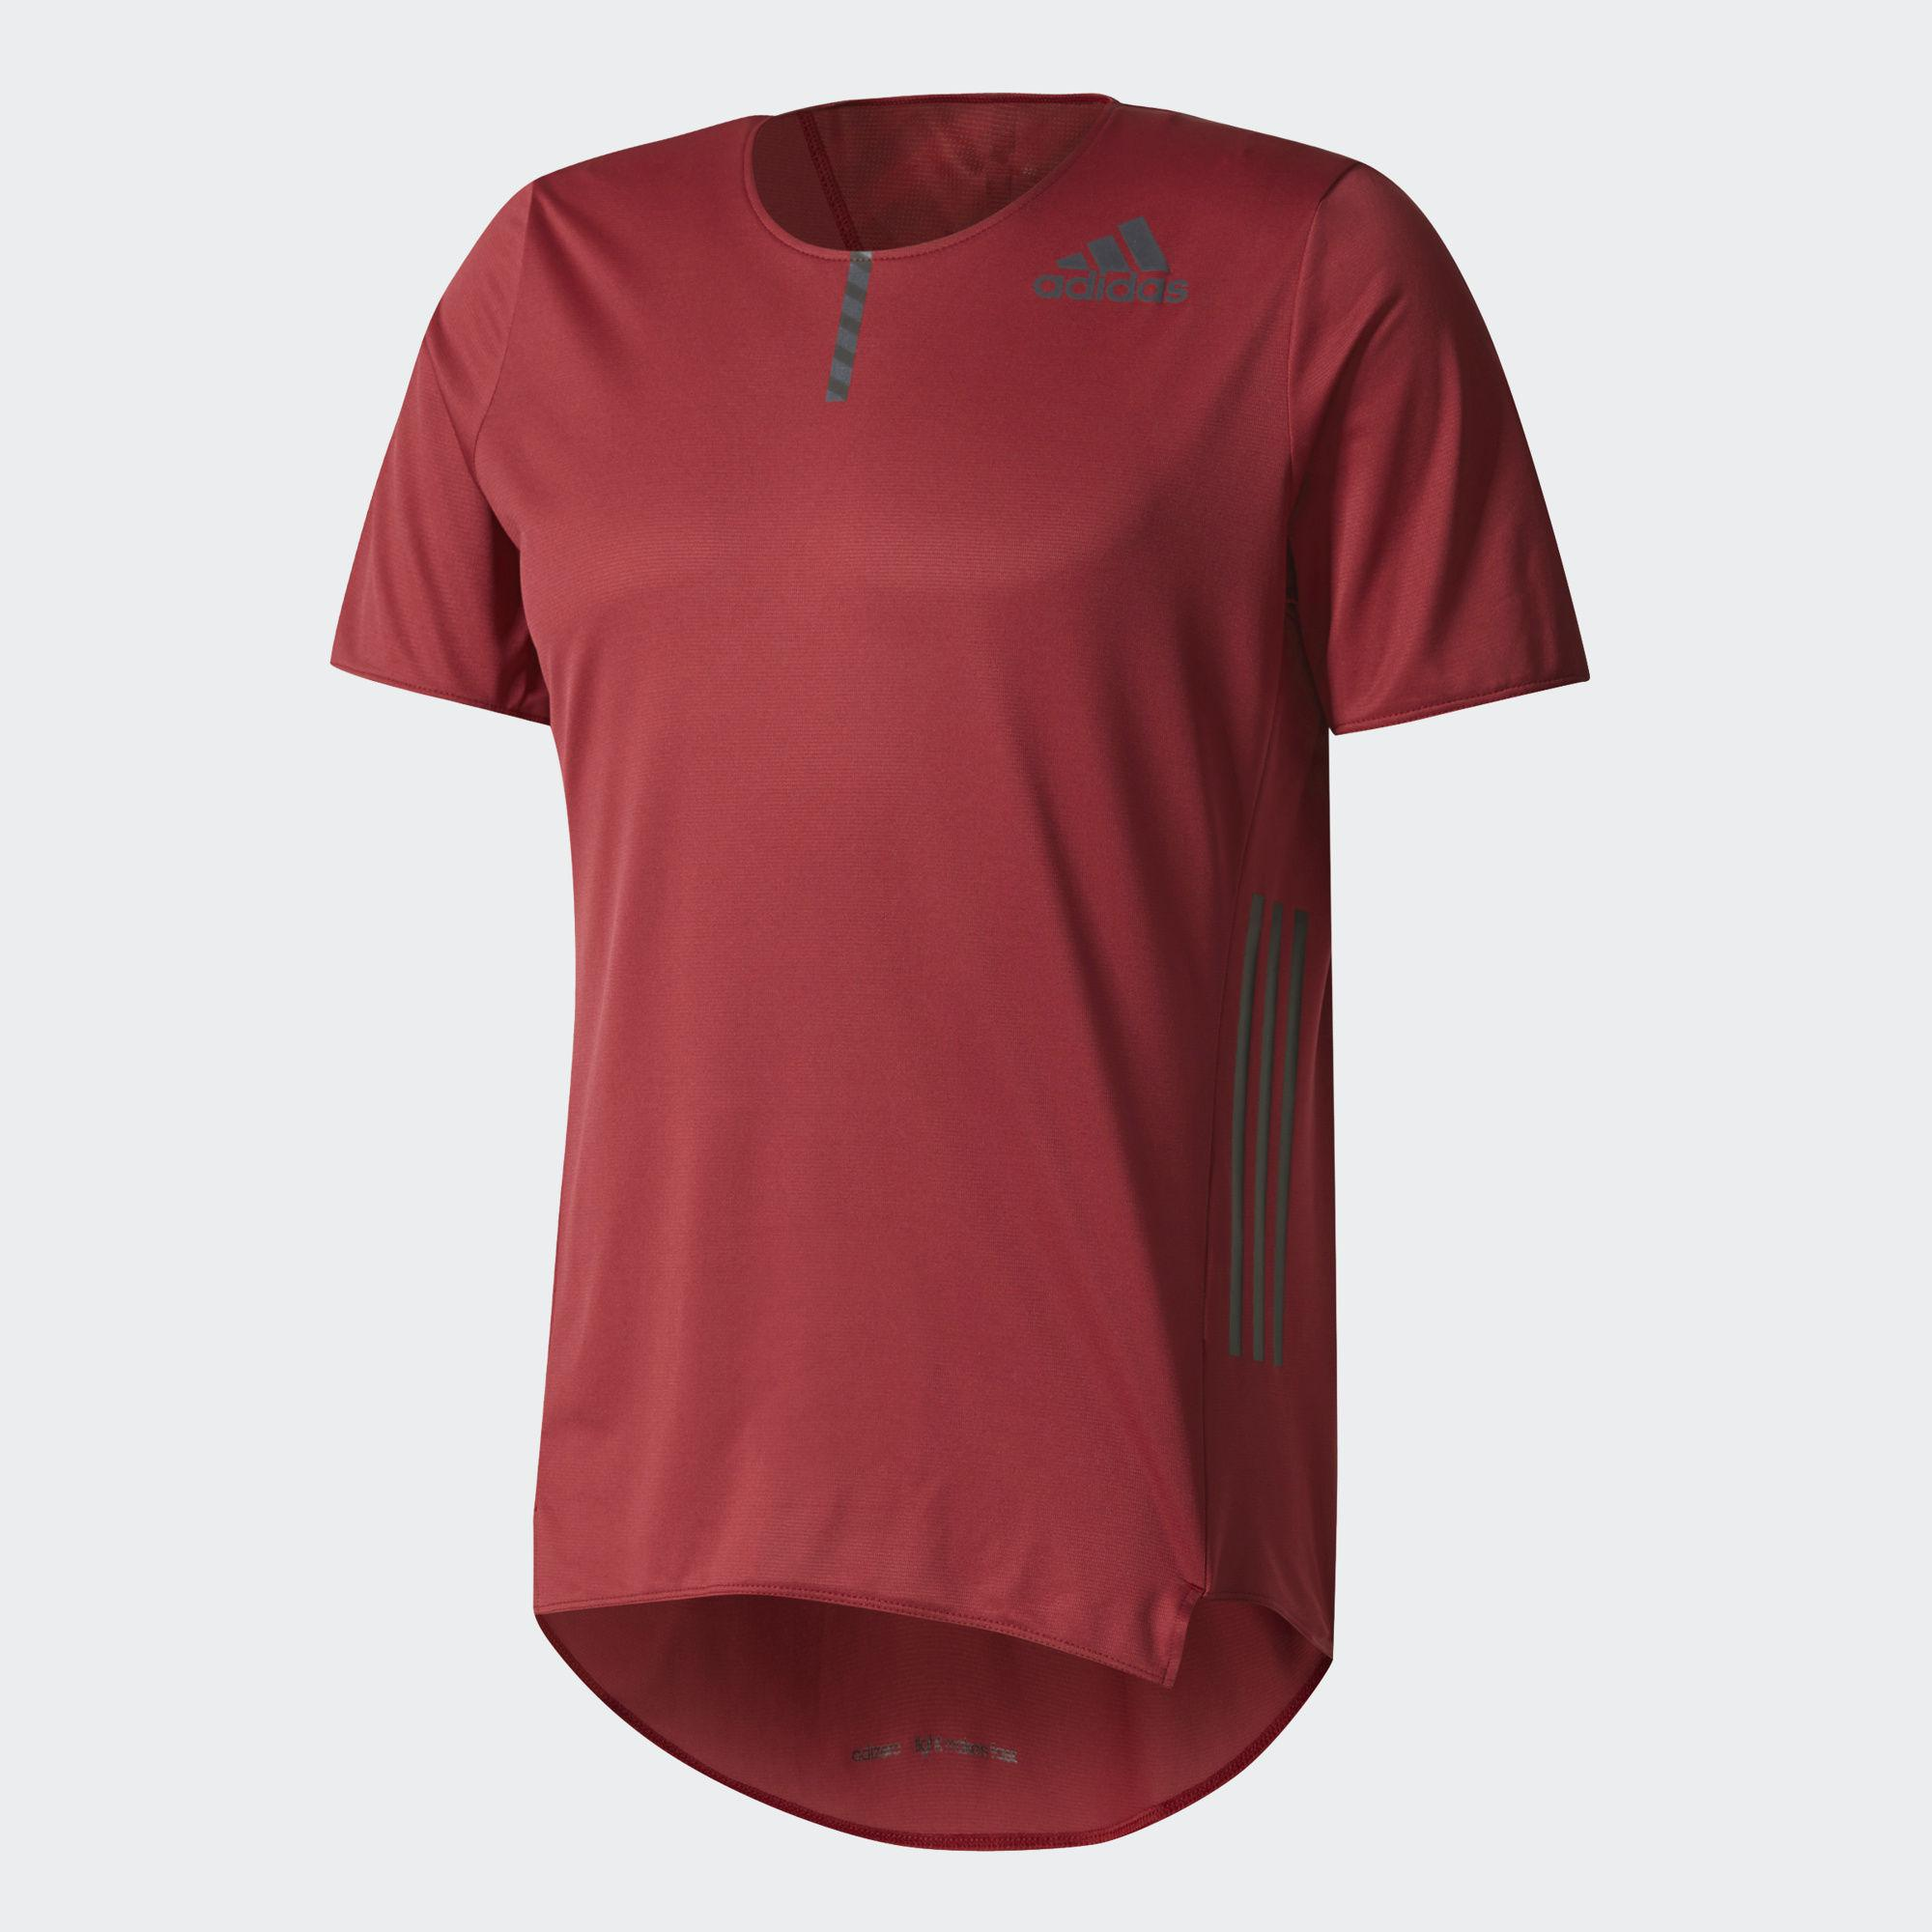teeshirt: (299, 51, 1637, 1813)
